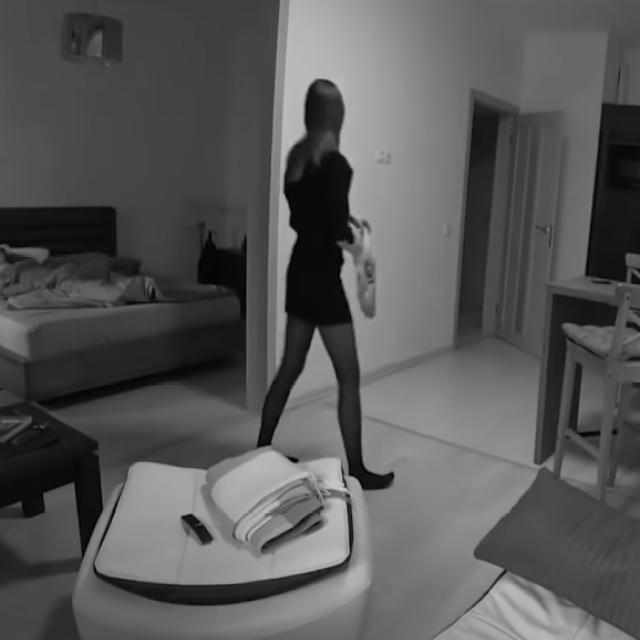Invader: (256, 77, 395, 490)
